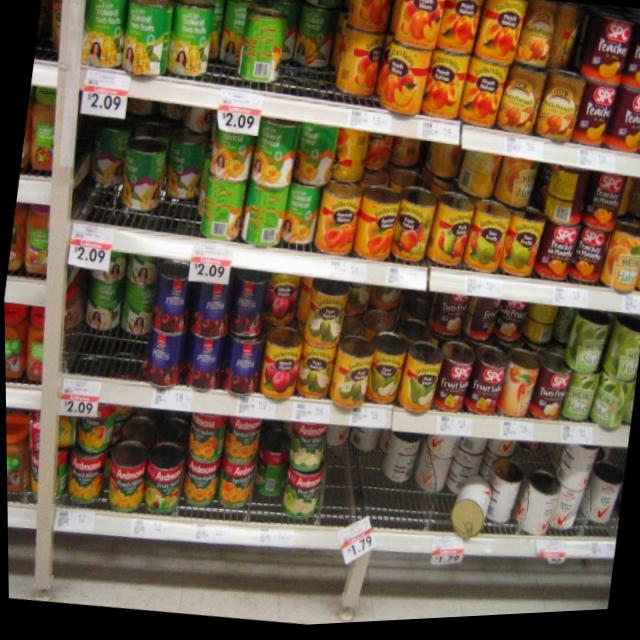q91: (231, 8, 296, 114), (160, 0, 220, 100), (110, 0, 171, 98), (69, 0, 129, 94), (249, 105, 303, 201), (191, 191, 247, 250), (244, 184, 286, 256), (285, 190, 325, 265), (208, 127, 250, 191)
